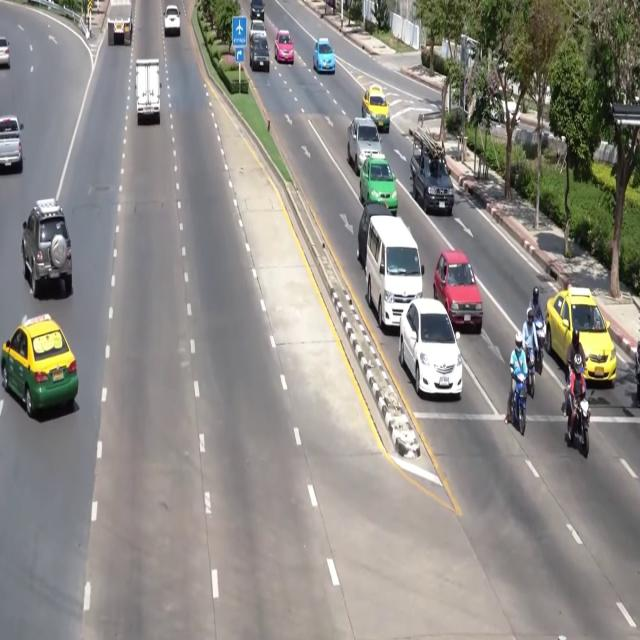car: (0, 314, 78, 416), (545, 286, 616, 383), (399, 298, 462, 399), (21, 199, 72, 298), (433, 250, 482, 333), (357, 203, 392, 268), (360, 154, 397, 215), (347, 118, 382, 175), (362, 85, 389, 132), (313, 38, 335, 73), (249, 34, 269, 72), (491, 101, 520, 125), (275, 30, 294, 64), (164, 5, 180, 36), (0, 37, 10, 68), (250, 20, 266, 39), (250, 0, 264, 20)
scooty: (568, 396, 590, 458), (569, 397, 590, 458), (511, 372, 527, 435), (534, 318, 546, 374), (527, 348, 535, 399), (635, 340, 639, 406)
truck: (410, 128, 453, 215), (135, 59, 161, 124), (0, 116, 23, 173), (107, 0, 132, 45)
